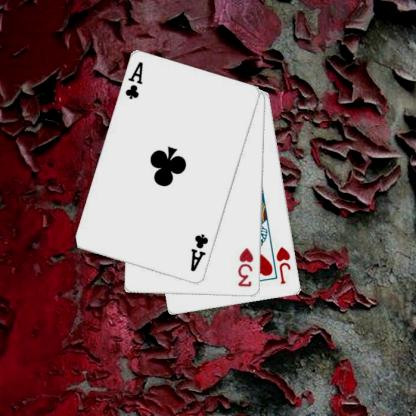3H: (236, 245, 254, 288)
AC: (188, 232, 210, 273), (123, 60, 144, 101)
JH: (274, 244, 292, 286)
